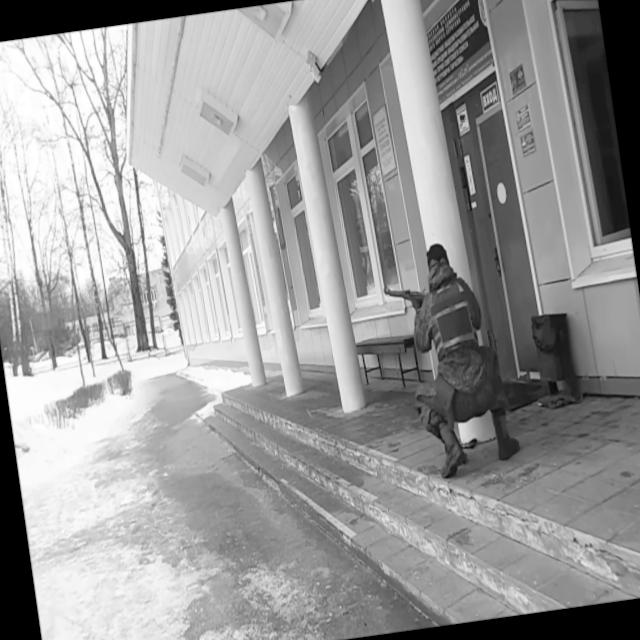gun: (383, 277, 432, 314)
person with a gun: (378, 235, 524, 484)
